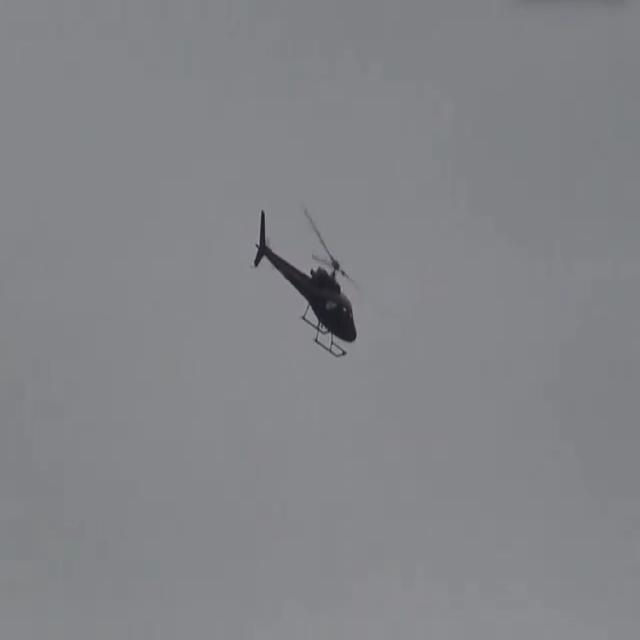Helicopter: (241, 201, 380, 374)
